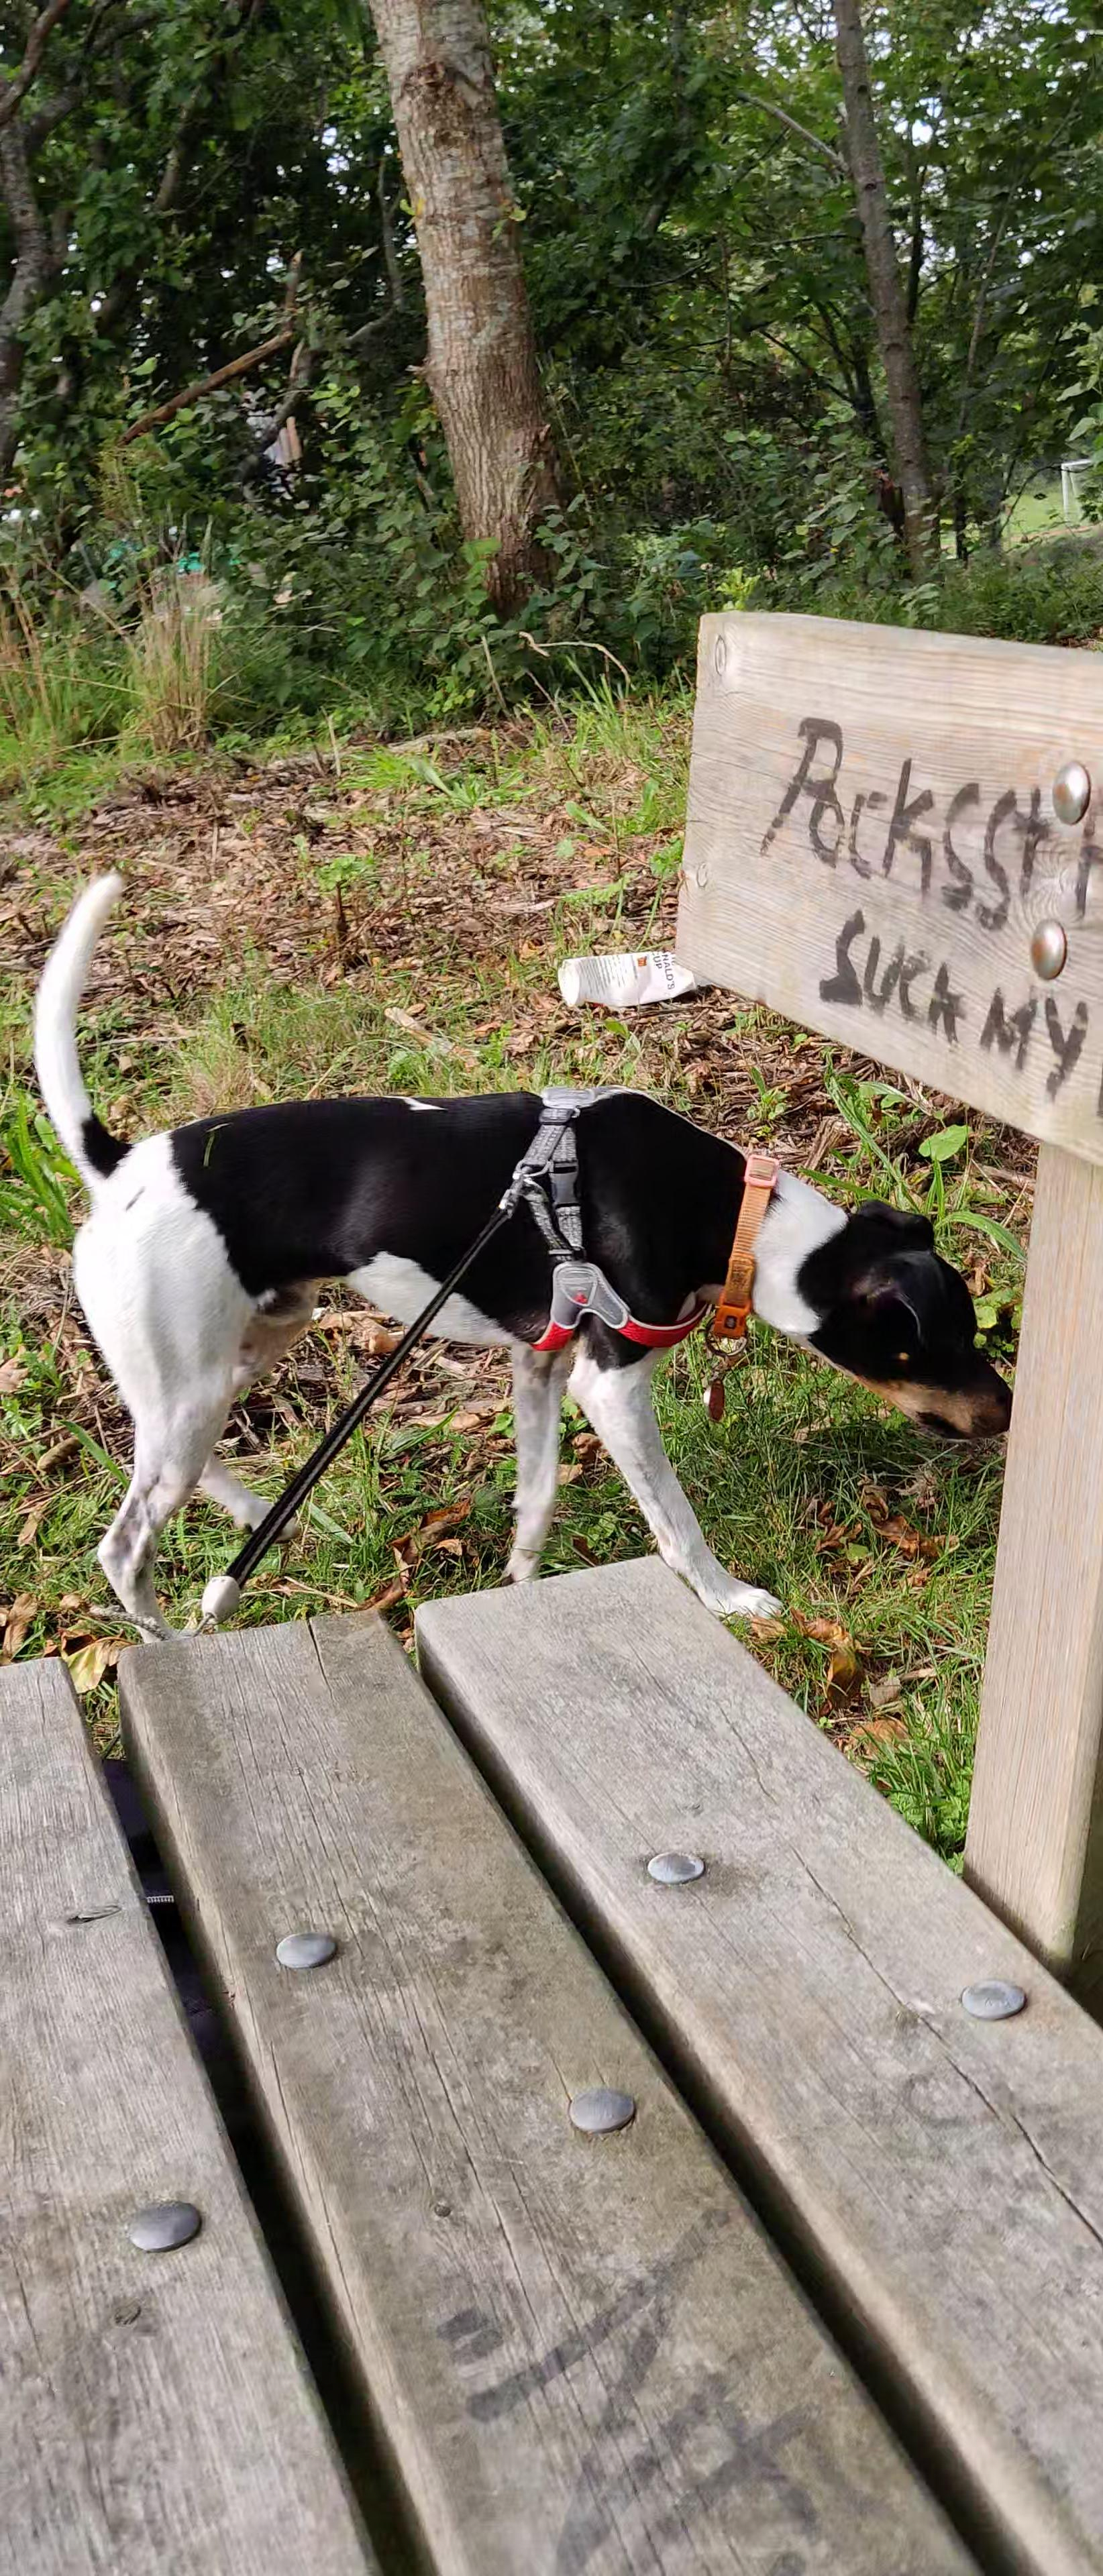Dog: (18, 866, 1021, 1640)
